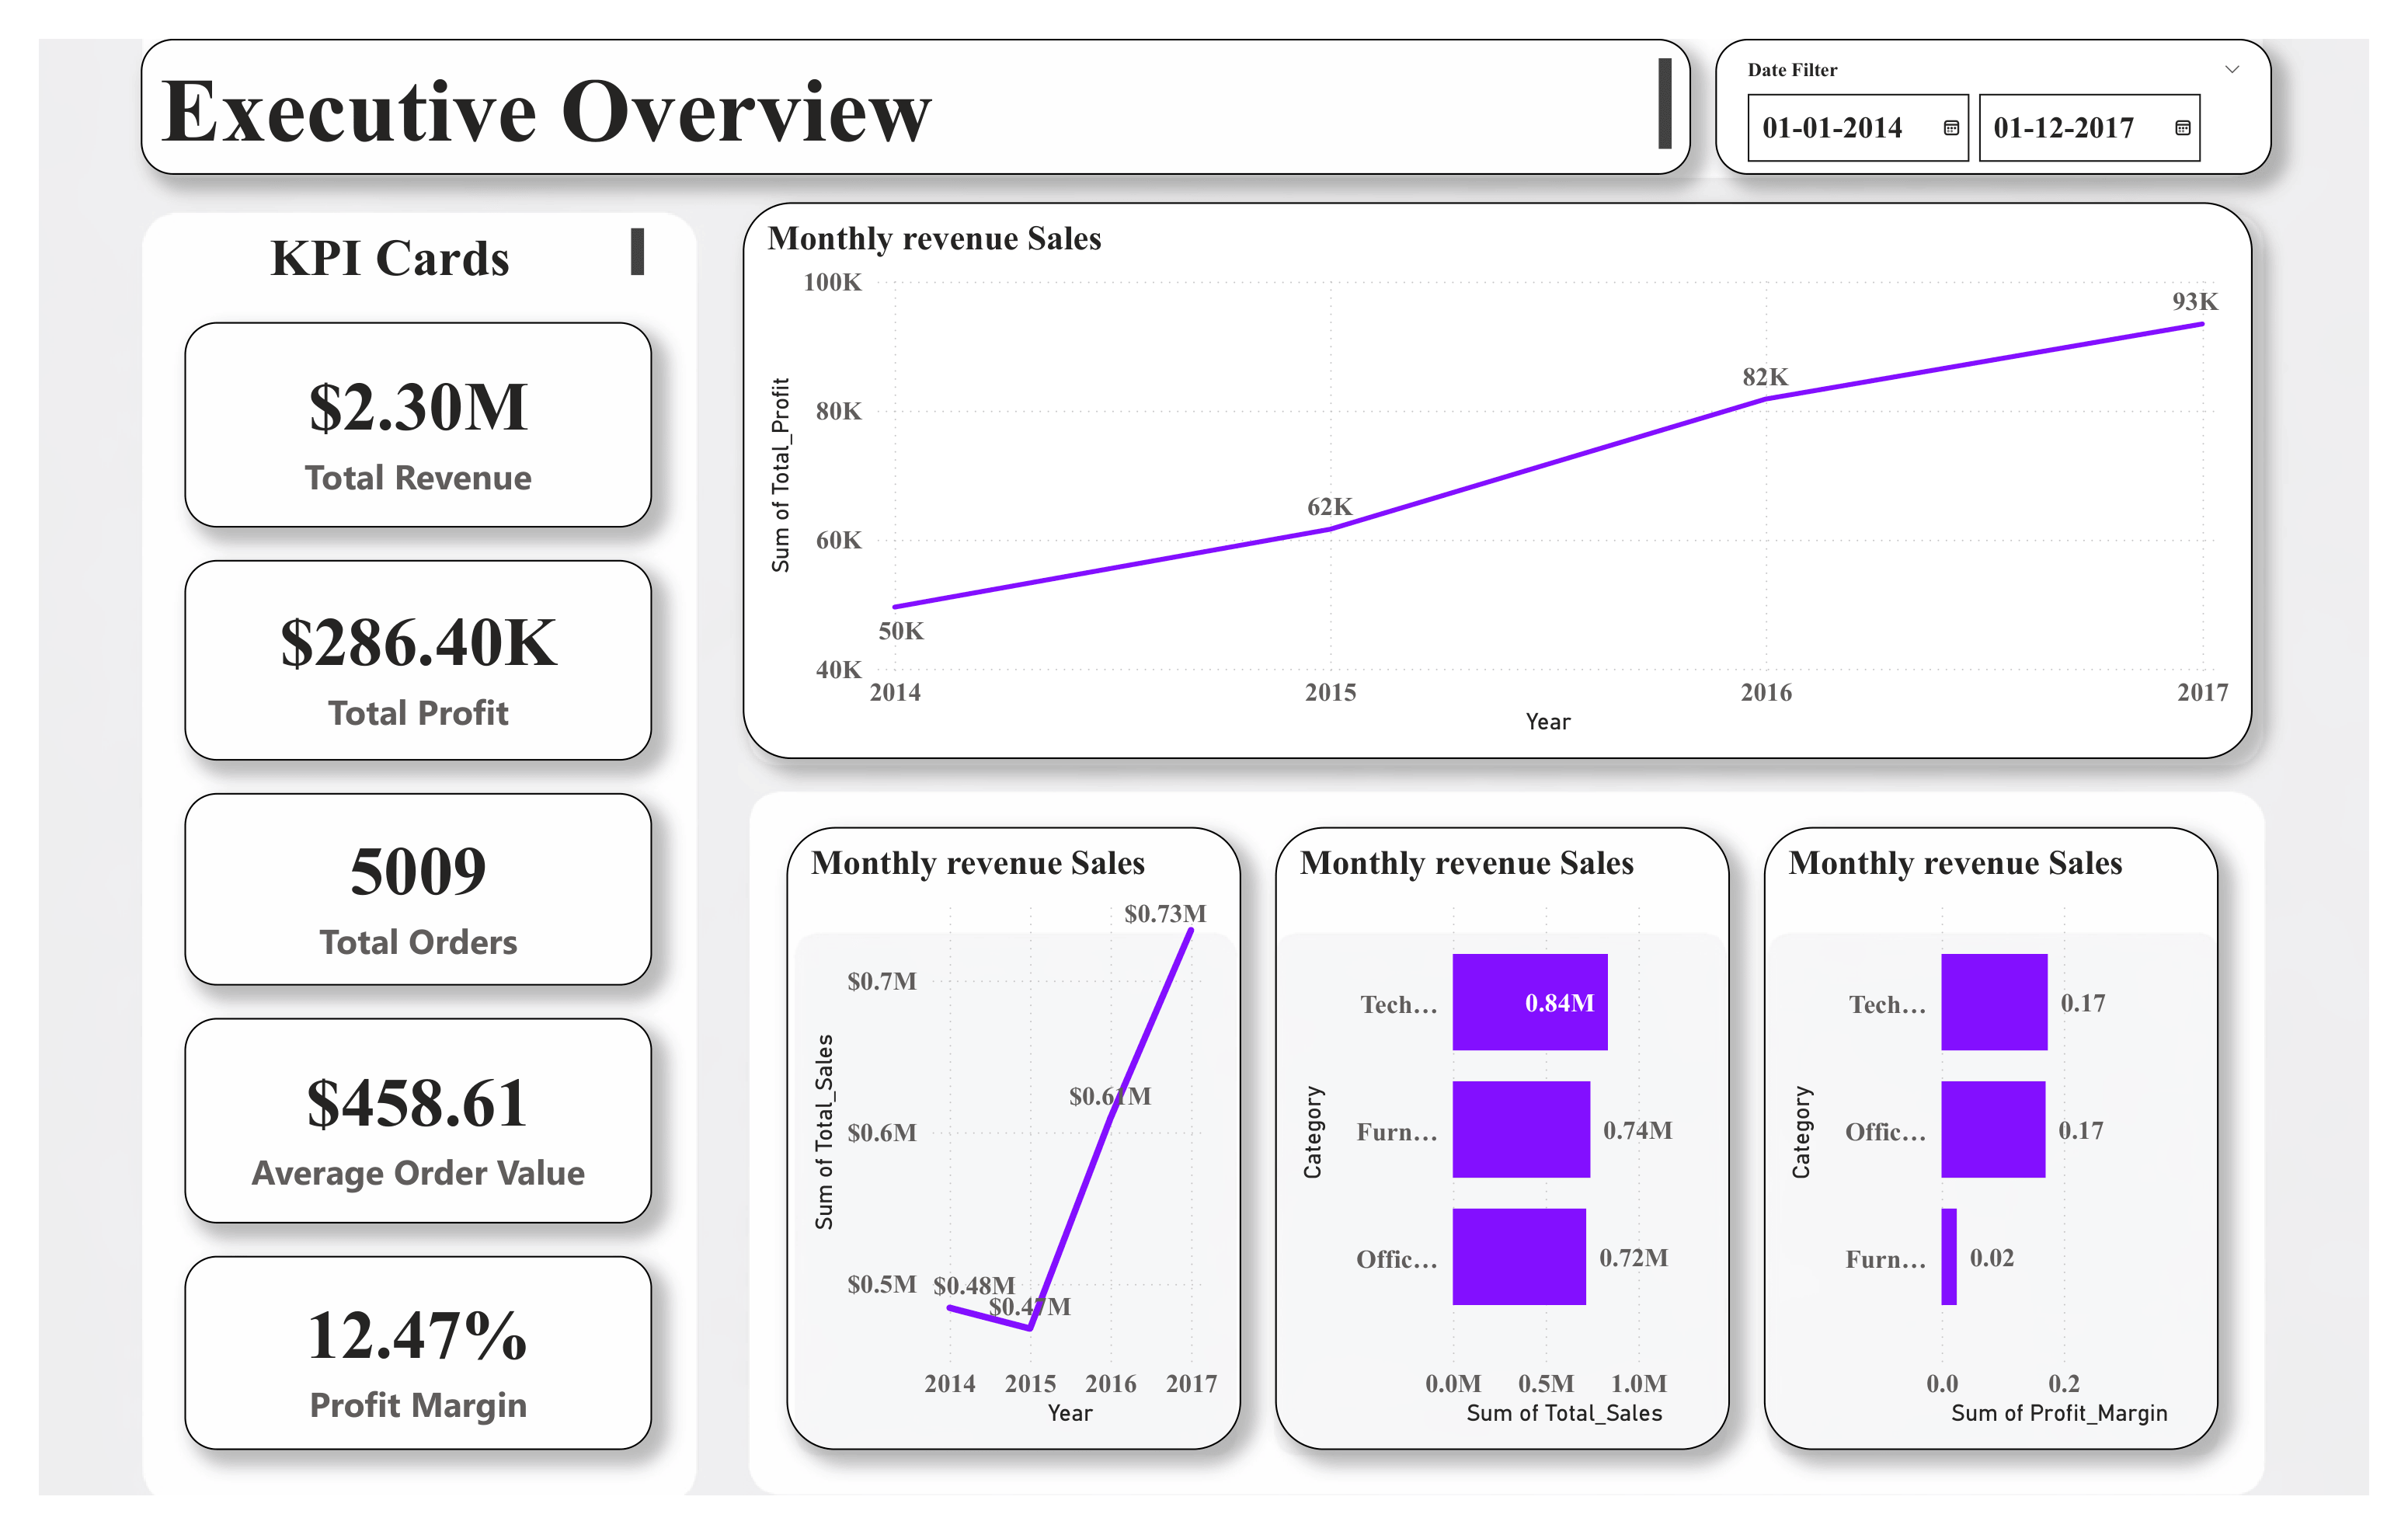

Layout of this report page (visuals, bound fields, positions):
{"tool":"powerbi","page":{"name":"Executive Overview","canvas":[1280,720],"ordinal":0},"visuals":[{"type":"card","fields":{"Values":["Sum(kpis.Total_Revenue)"]},"box":[0,78.6,262.9,167.1],"z":0},{"type":"card","fields":{"Values":["Sum(kpis.Total_Profit)"]},"box":[262.9,78.6,241.4,167.1],"z":1000},{"type":"card","fields":{"Values":["Sum(kpis.Total_Orders)"]},"box":[505.7,78.6,258.6,167.1],"z":2000},{"type":"card","fields":{"Values":["Sum(kpis.Average_Order_Value)"]},"box":[765.7,78.6,247.1,167.1],"z":3000},{"type":"card","fields":{"Values":["Sum(kpis.Profit_Margin)"]},"box":[1014.3,78.6,265.7,167.1],"z":4000},{"type":"lineChart","title":"Monthly revenue Sales","fields":{"Category":["monthly_summary.Year_Month.Variation.Date Hierarchy.Year","monthly_summary.Year_Month.Variation.Date Hierarchy.Quarter","monthly_summary.Year_Month.Variation.Date Hierarchy.Month","monthly_summary.Year_Month.Variation.Date Hierarchy.Day"],"Y":["Sum(monthly_summary.Total_Sales)"]},"box":[0,245.4,366,347.8],"z":5000},{"type":"clusteredBarChart","title":"Sales By Caetgory","fields":{"Category":["category_summary.Category"],"Y":["Sum(category_summary.Total_Sales)"]},"box":[366,245.4,523,474],"z":6000},{"type":"clusteredColumnChart","fields":{"Category":["category_summary.Category"],"Y":["Avg(category_summary.Profit_Margin)"]},"box":[889,245.4,391.2,474],"z":7000},{"type":"slicer","fields":{"Values":["monthly_summary.Year_Month"]},"box":[0,600.2,366,119.2],"z":8000},{"type":"textbox","title":"Executive Overview","box":[0,0,1280,78.6],"z":9000}]}

Visuals, with their boxes on the page's 1280x720 design canvas (x1, y1, x2, y2). These are canvas units, not pixel positions in the 2408x1535 screenshot, which may show the page scaled, cropped or inside an application window:
card - Sum(kpis.Total_Revenue): [0,79,263,246]
card - Sum(kpis.Total_Profit): [263,79,504,246]
card - Sum(kpis.Total_Orders): [506,79,764,246]
card - Sum(kpis.Average_Order_Value): [766,79,1013,246]
card - Sum(kpis.Profit_Margin): [1014,79,1280,246]
"Monthly revenue Sales" lineChart: [0,245,366,593]
"Sales By Caetgory" clusteredBarChart: [366,245,889,719]
clusteredColumnChart - category_summary.Category x Avg(category_summary.Profit_Margin): [889,245,1280,719]
slicer - monthly_summary.Year_Month: [0,600,366,719]
"Executive Overview" textbox: [0,0,1280,79]
